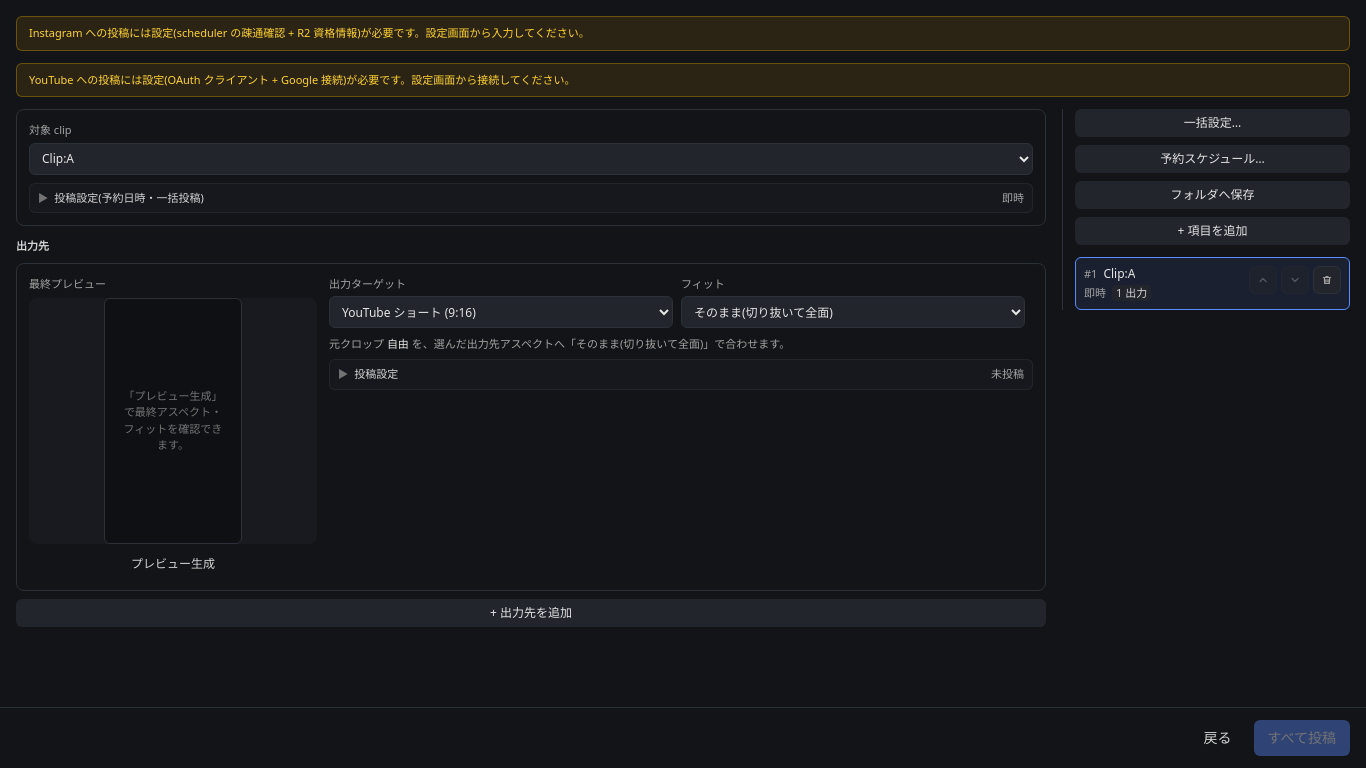
Scenario: UploadScreen: ensureRendered の早期 throw を可視化する › 元動画未選択でプレビュー生成すると、既存のステータス表示にエラーが反映される
Click the button "プレビュー生成".
click(173, 564)  # box [29,550,317,578]
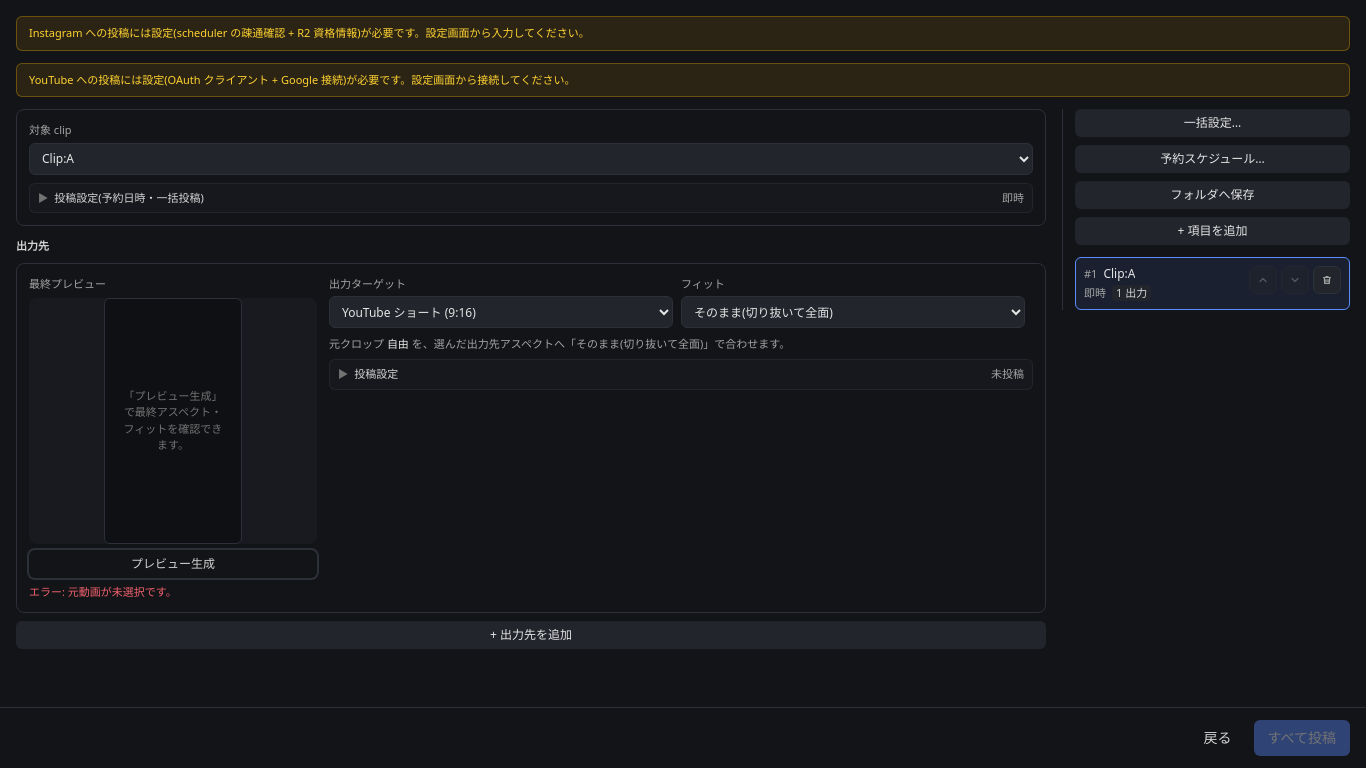
Result: the text "エラー: 元動画が未選択です。" is shown at [29,584,177,599]
